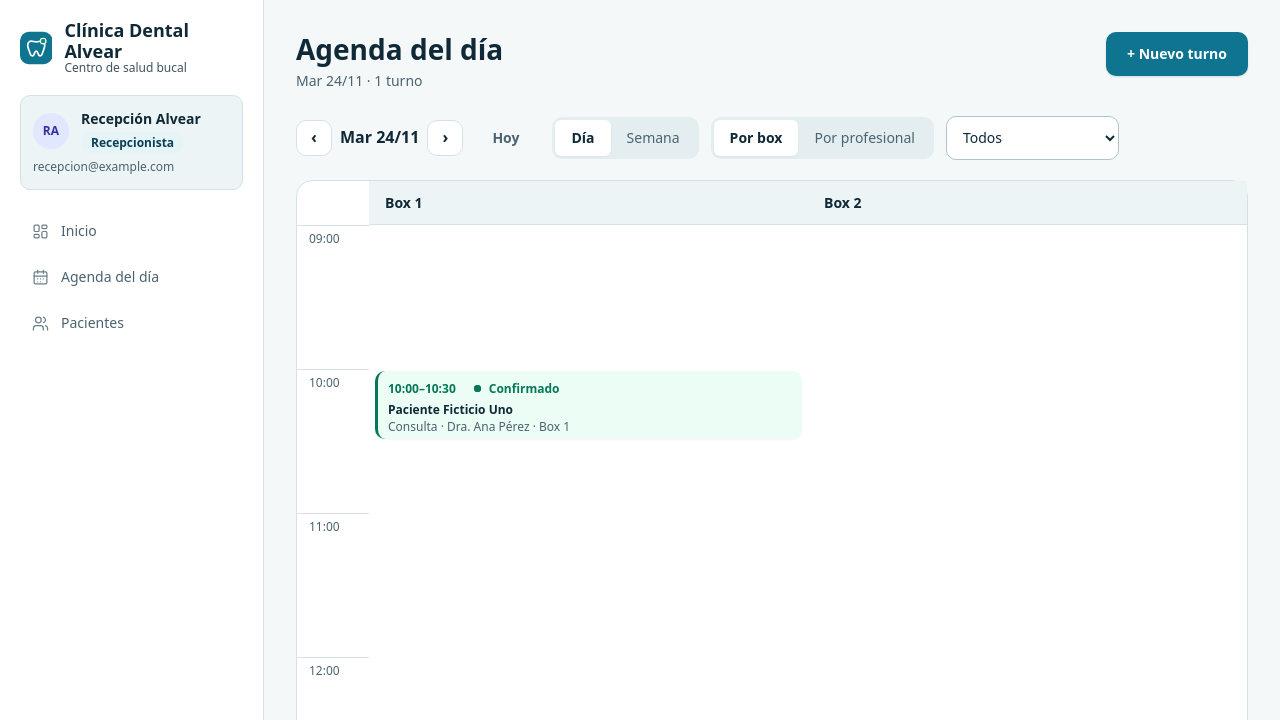
Test: Requirement: Acciones según el estado del turno › un 409 TRANSICION_INVALIDA al marcar atendido muestra su mensaje legible
Click the button with aria-label "turno de las 10:00" at (422,388), box left=375, top=371, right=802, bottom=439
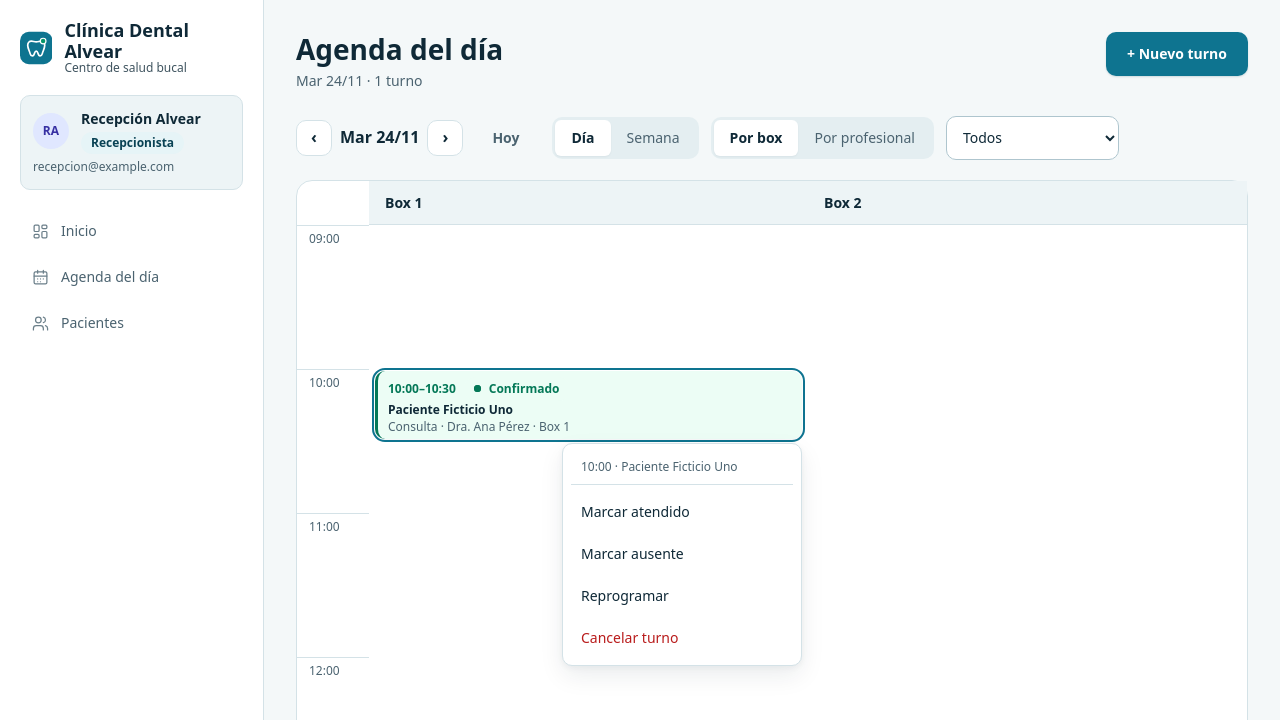
Click the menu item "Marcar atendido" at (682,511), box left=571, top=491, right=793, bottom=531
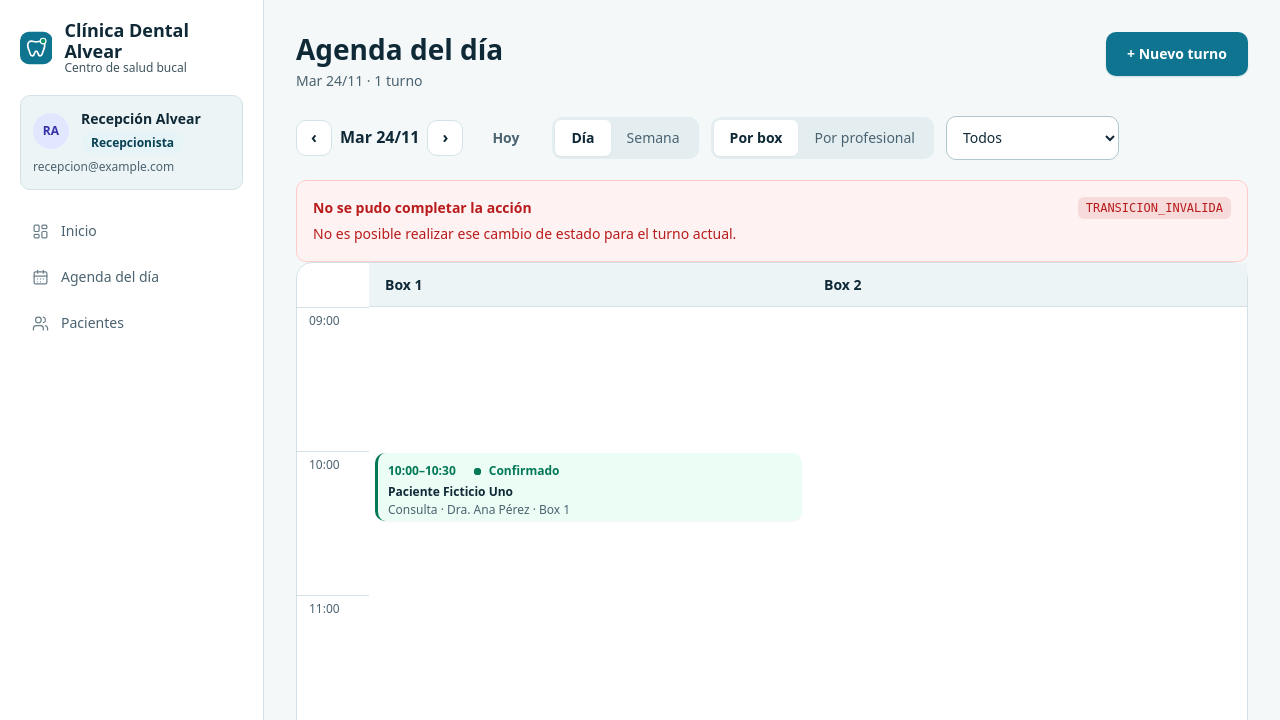
Now the text "No es posible realizar ese cambio de estado para el turno actual." is shown, box left=313, top=224, right=736, bottom=243
